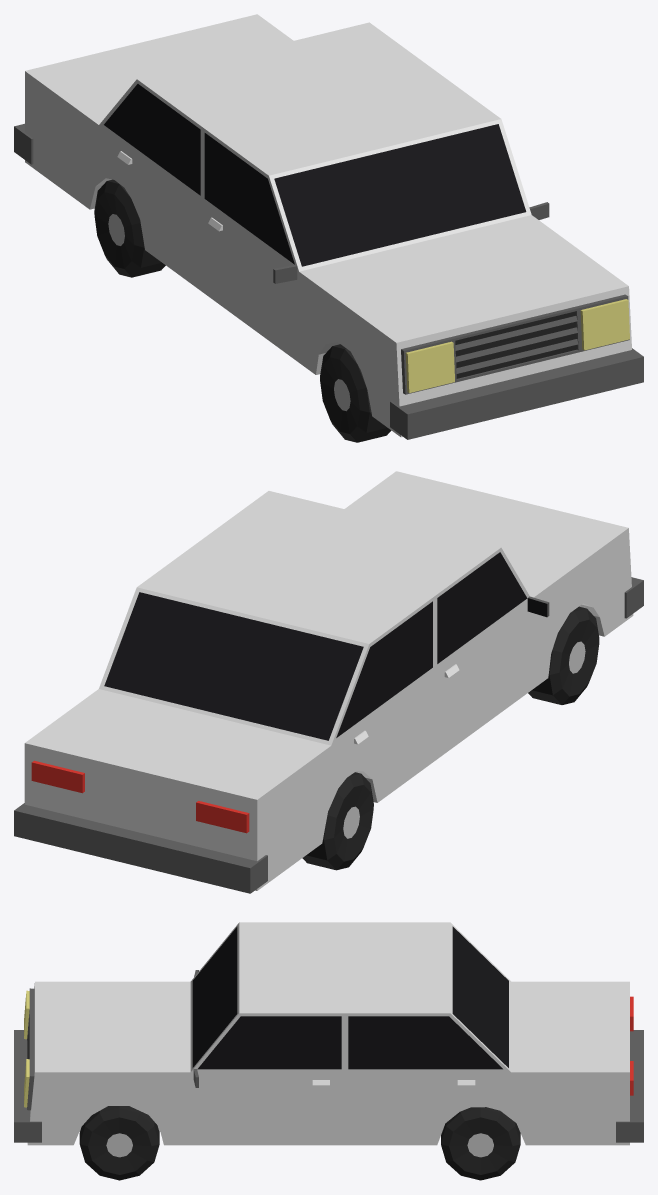
Rendered from Car_03.fbx.
The picture shows the model from 3 angles, top to bottom: view 1: azimuth 30°, elevation 25°; view 2: azimuth 150°, elevation 25°; view 3: azimuth 270°, elevation 25°; orthographic projection. The views are drawn at different scales.
Parts seen in each view (by area): view 1: Car_03; view 2: Car_03; view 3: Car_03.
Boxes of the visible parts, x1=… form: Car_03: x1=14, y1=14, x2=643, y2=442; Car_03: x1=14, y1=471, x2=643, y2=893; Car_03: x1=14, y1=922, x2=643, y2=1180.
Bounding box in the file's own units: 2.58 × 1.88 × 6.41.
